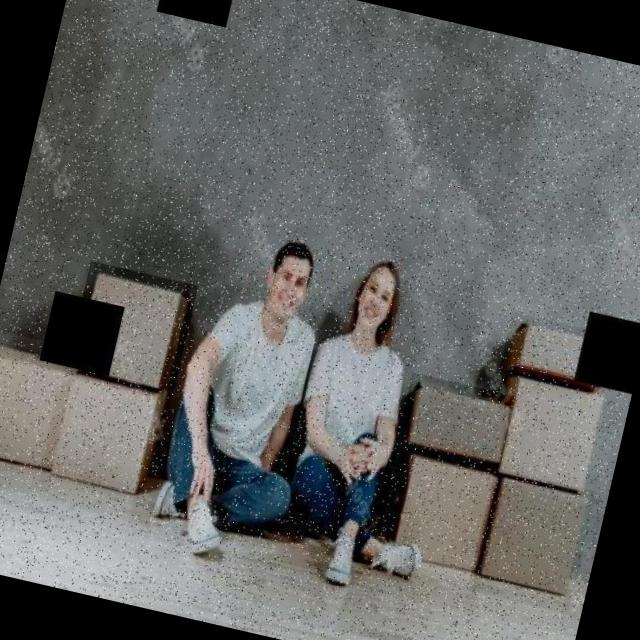box: (36, 364, 175, 514), (467, 468, 596, 613), (65, 260, 198, 396), (382, 450, 500, 587), (493, 370, 612, 500), (0, 328, 85, 492), (393, 372, 518, 477), (498, 311, 618, 396)
